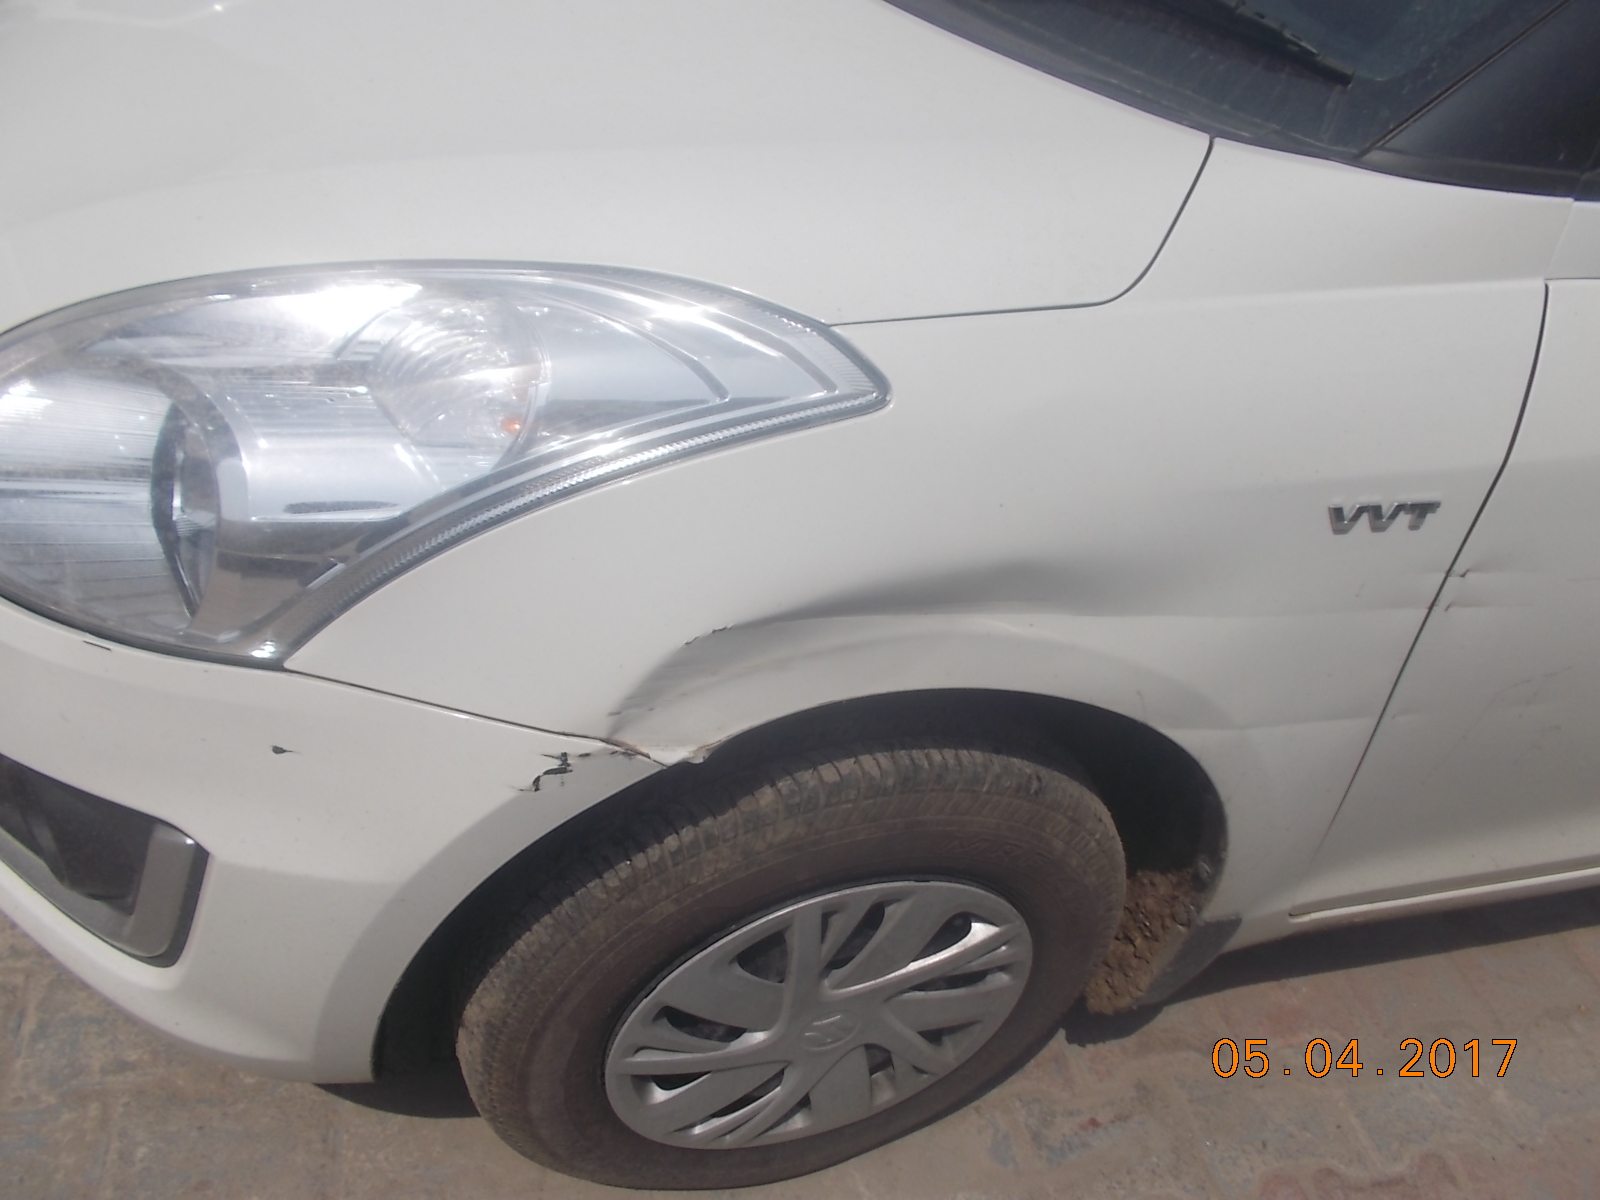Dent: (707, 571, 1143, 705)
